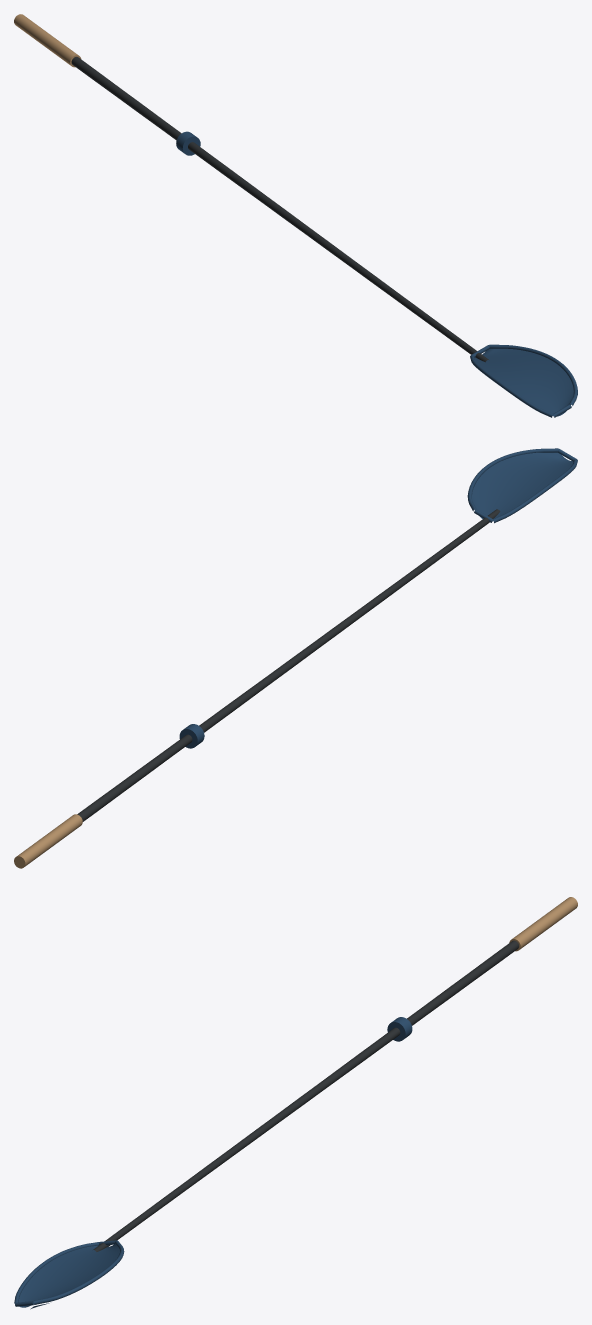
Rendered from rowing-boathouse-and-regatta-course-sweep-oar-2c0d66c2__32132.glb.
3 views of the same model, one above another, from view 1: azimuth 30°, elevation 25°; view 2: azimuth 150°, elevation 25°; view 3: azimuth 330°, elevation 25° (orthographic). The views are drawn at different scales.
Parts seen in each view (by area): view 1: sweep-oar; view 2: sweep-oar; view 3: sweep-oar.
Boxes of the visible parts, x1,y1,x2,y2 form: sweep-oar: (14, 14, 577, 417); sweep-oar: (14, 448, 577, 868); sweep-oar: (14, 897, 577, 1309).
Bounding box in the file's own units: 0.244 × 0.0889 × 3.66.
